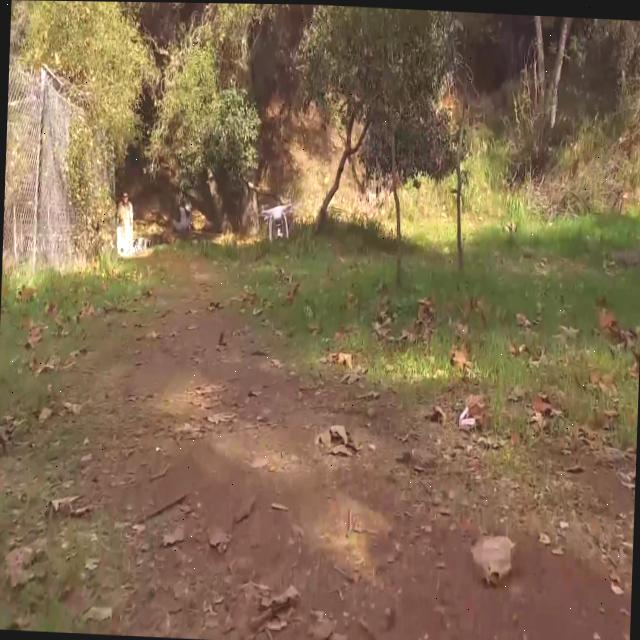drone: (254, 192, 296, 241)
